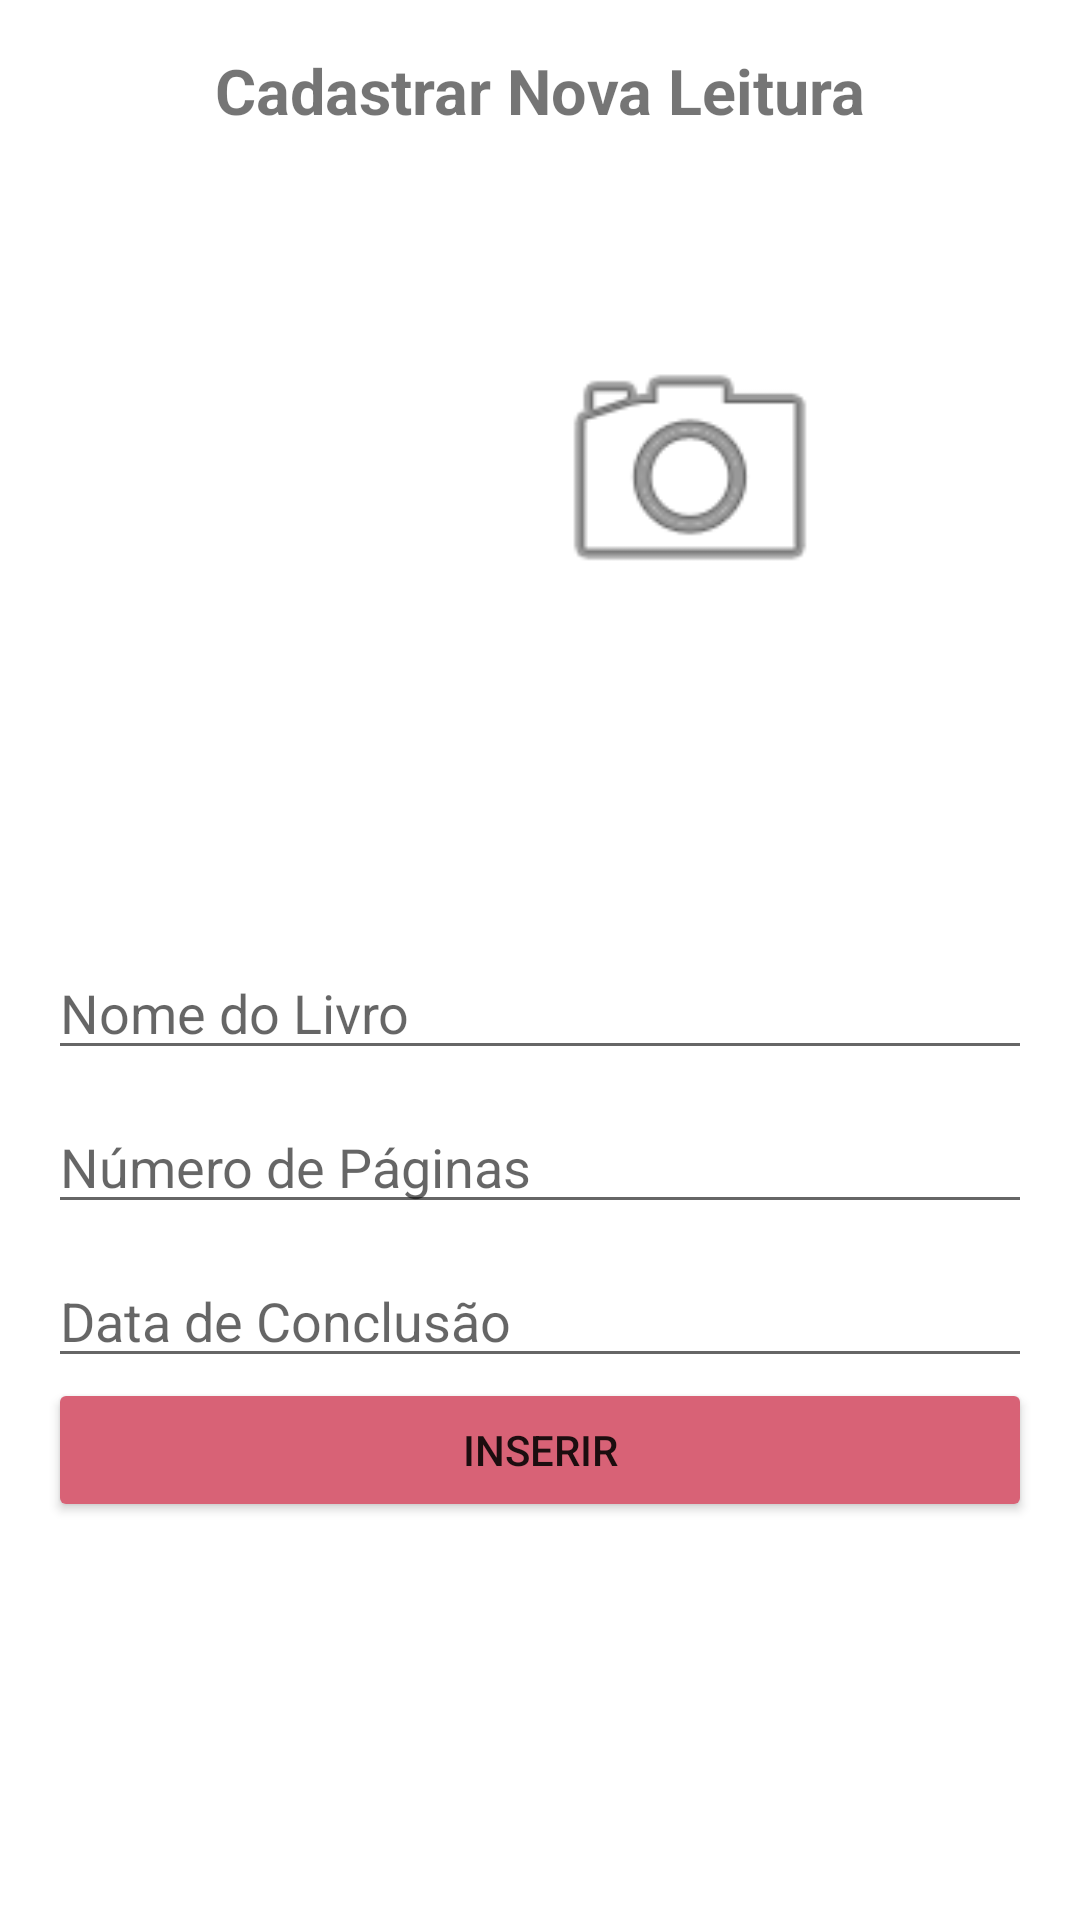

Named icons in this screenshot (1080px×1920px) and their centers, [x,y]:
camera: [690,467]
